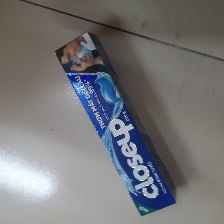CloseUp Tuyet: (54, 32, 177, 218)
